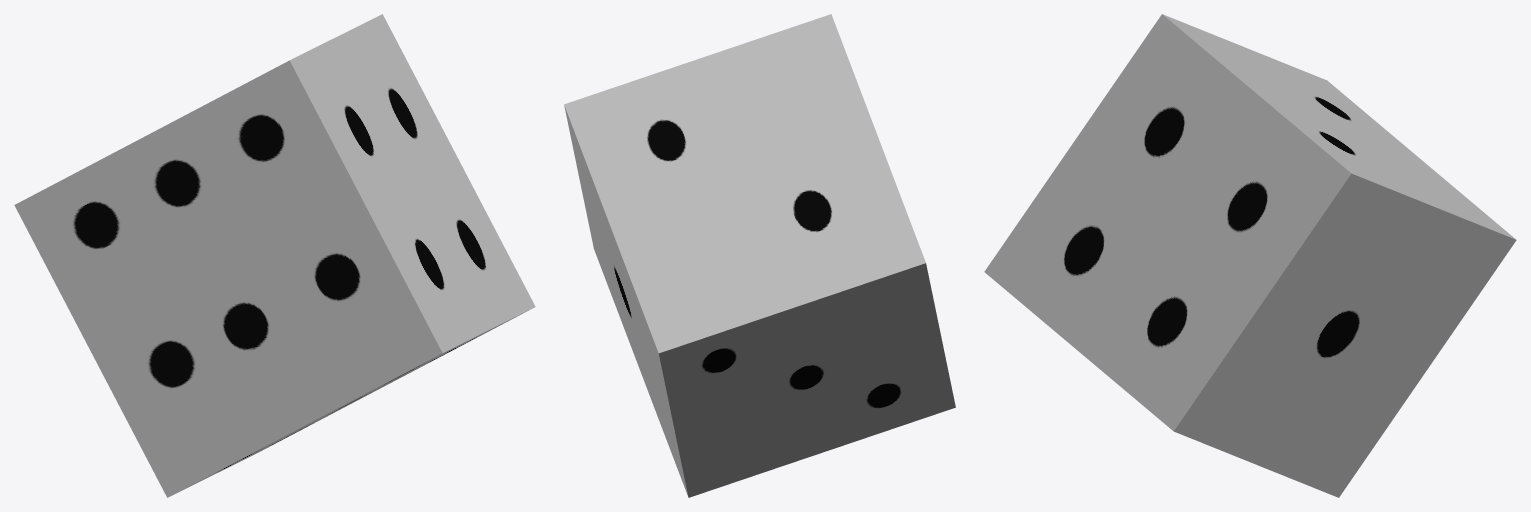
File: dice.glb
The picture shows the model from 3 angles, left to right: view 1: azimuth 30°, elevation 25°; view 2: azimuth 150°, elevation 25°; view 3: azimuth 270°, elevation 25°; orthographic projection. The views are drawn at different scales.
Parts seen in each view (by area): view 1: mesh_id27; view 2: mesh_id27; view 3: mesh_id27.
Boxes of the visible parts, x1=… form: mesh_id27: x1=14, y1=14, x2=535, y2=497; mesh_id27: x1=564, y1=14, x2=955, y2=497; mesh_id27: x1=984, y1=14, x2=1516, y2=497.
Bounding box in the file's own units: 0.4872 × 0.5002 × 0.5311.
1 material, 1 textured.
